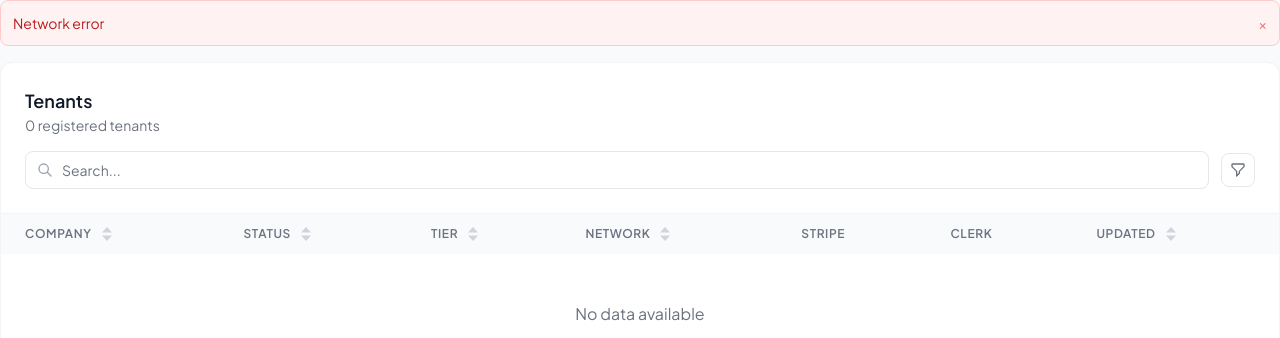
Test: TenantManagement › dismisses error alert when close button is clicked
expect the message "Network error ×" is shown: met, box [0,0,1279,46]
Click the button named "Dismiss error" at (1263,23), box [1258,13,1267,33]
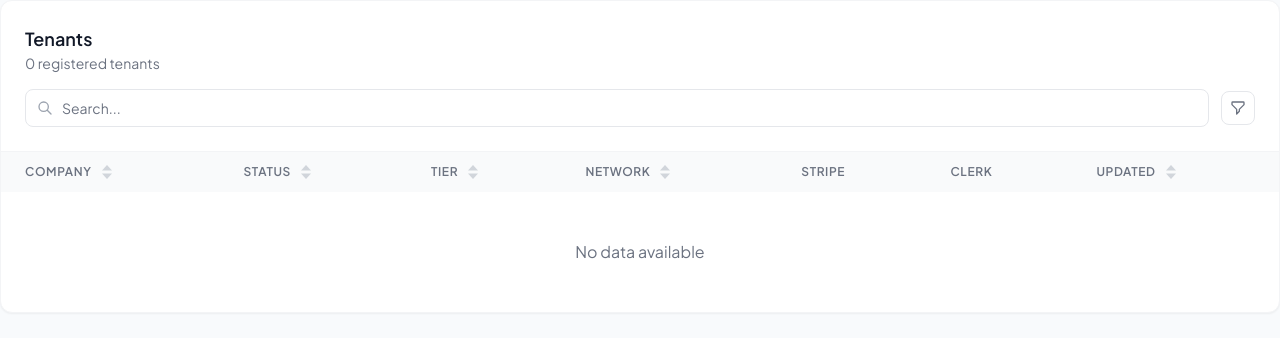
expect the message "Network error ×" is gone: met
